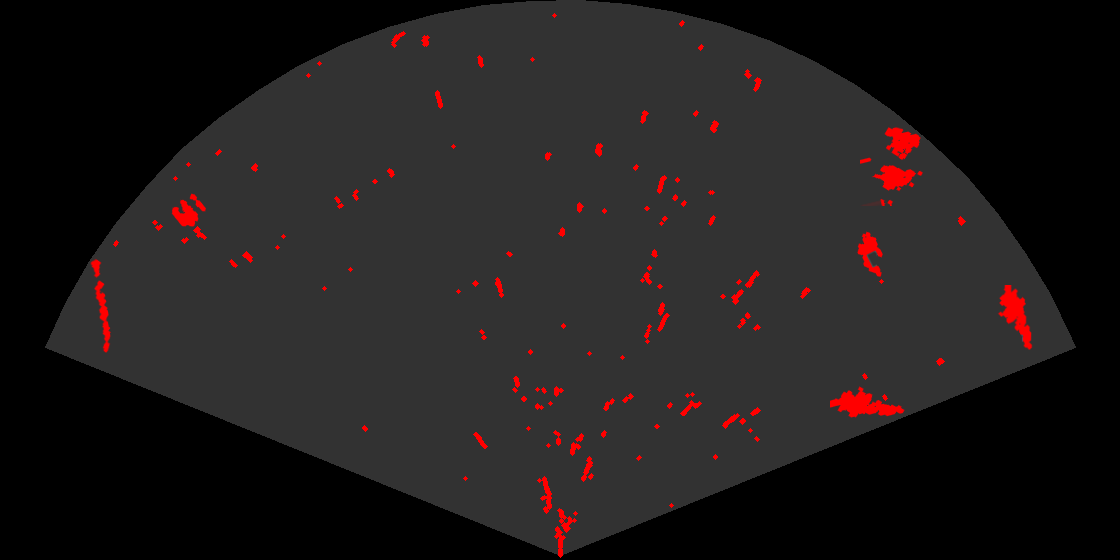AUV: (856, 230, 884, 278)
ball: (170, 192, 208, 228)
cage: (860, 126, 924, 206)
chain: (89, 256, 112, 354)
frogman: (830, 385, 906, 419), (996, 285, 1034, 350)
